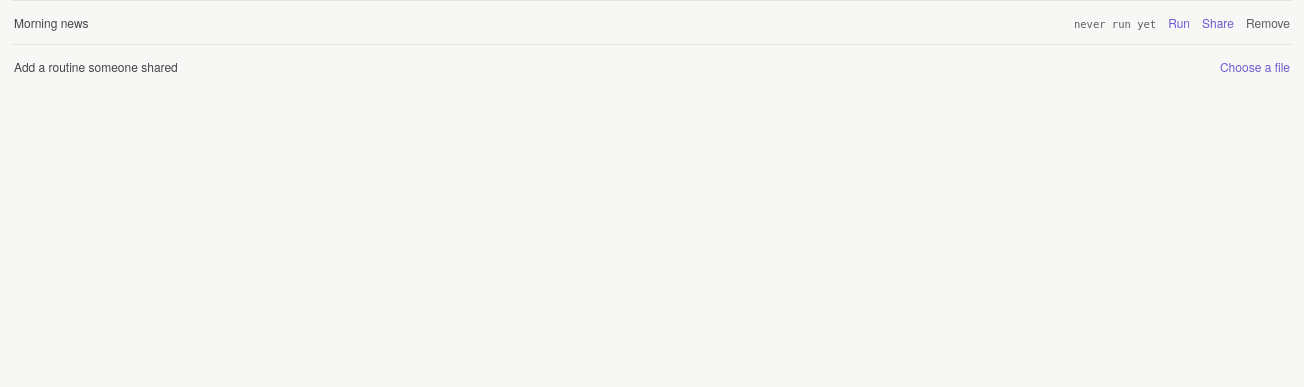
Scenario: the card that asks about a routine somebody else wrote › shows all three assurances word for word
The image size is (1304, 387).
Click the button with aria-label "Add a routine someone shared with you". click: (1255, 66)
box: [1220, 58, 1290, 75]
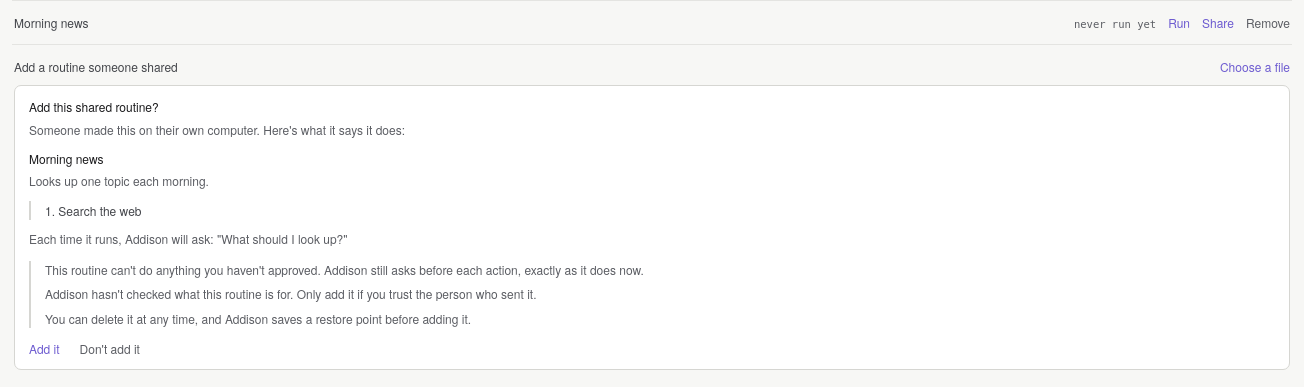
expect the list item "This routine can't do anything you haven't approved. Addison still asks before each action, exactly as it does now." is shown: met, box [45, 261, 644, 278]
expect the list item "Addison hasn't checked what this routine is for. Only add it if you trust the person who sent it." is shown: met, box [45, 285, 536, 302]
expect the list item "You can delete it at any time, and Addison saves a restore point before adding it." is shown: met, box [45, 310, 471, 327]
